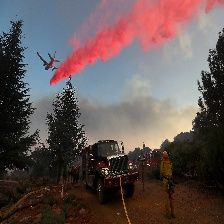smoke: (49, 1, 210, 86)
